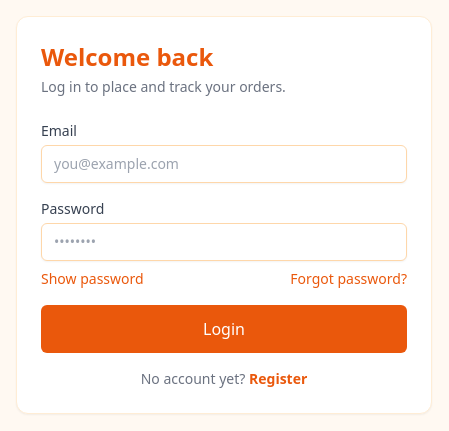
Test: toggles the login password without submitting
Click the button "Show password" at coordinates (92, 279), box [41,269,144,289]
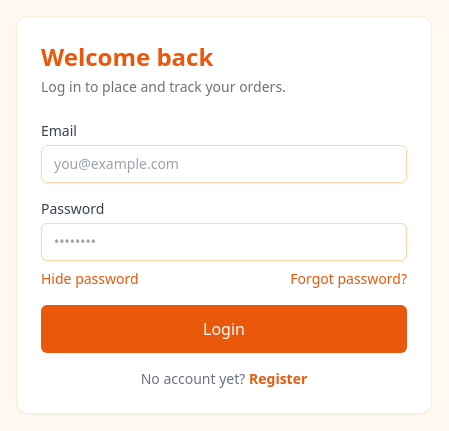
Check: the button "Hide password" is pressed, box [41,269,139,289]
